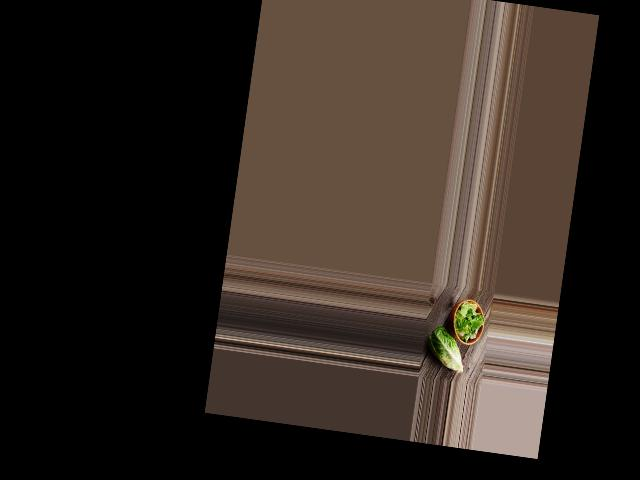lettuce: (423, 325, 468, 372)
